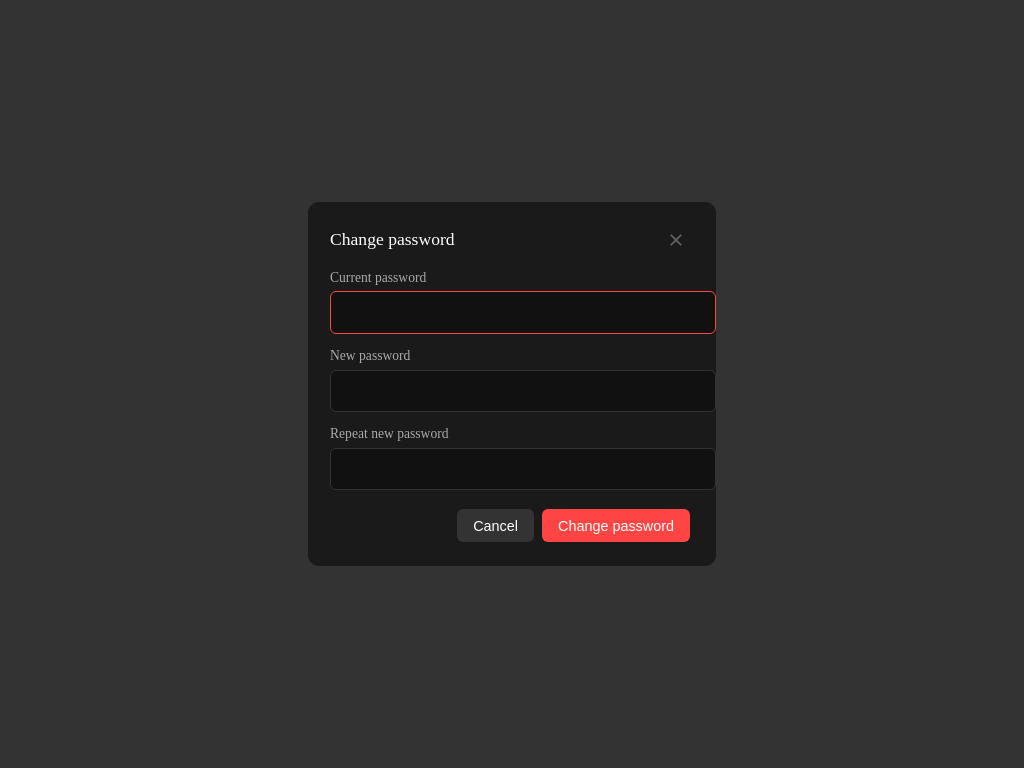
Test: ChangePasswordModal › changes the password and confirms
In the password field labelled "Current password": [523, 312] box [330,291,716,334], type "old password"
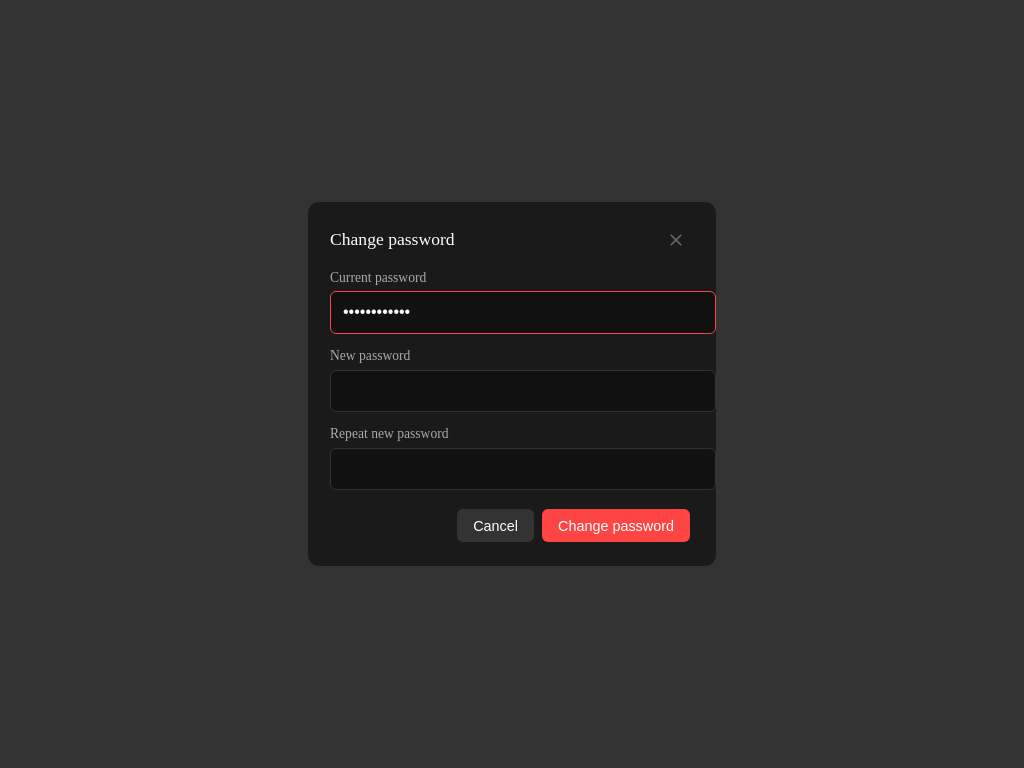
In the password field labelled "New password": [523, 391] box [330,370,716,412], type "new password"
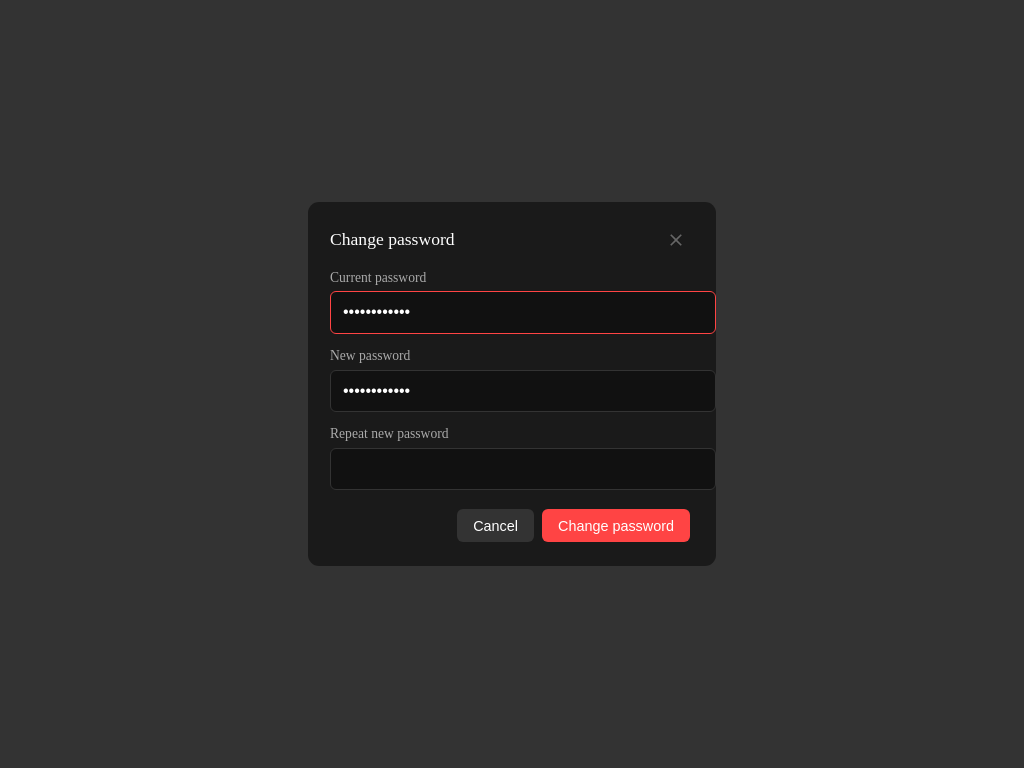
In the password field labelled "Repeat new password": [523, 469] box [330,448,716,490], type "new password"
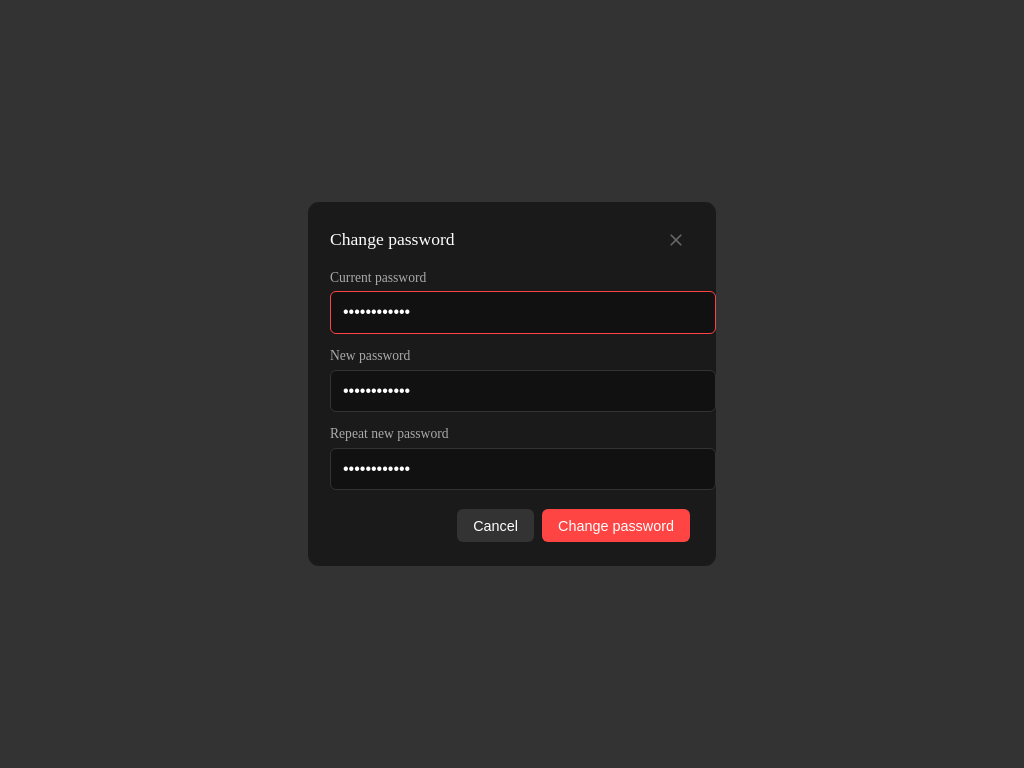
Click the button "Change password": [616, 526] box [542,509,690,542]
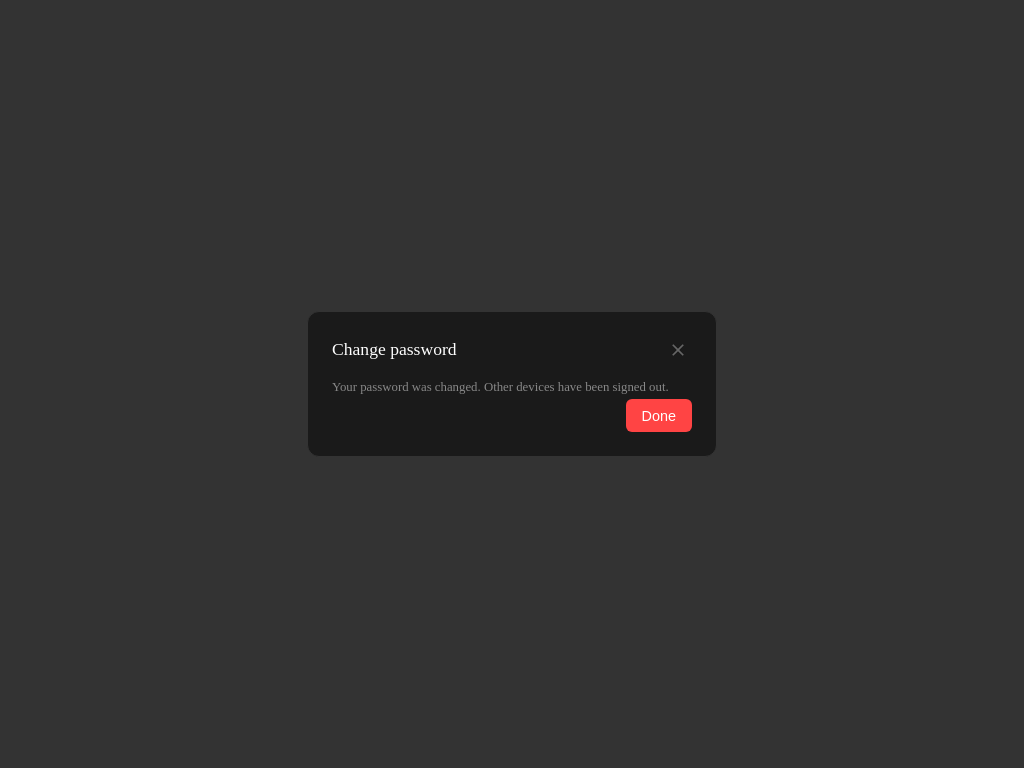
Expected: the message shows "Other devices have been signed out", [332,380,669,394]
